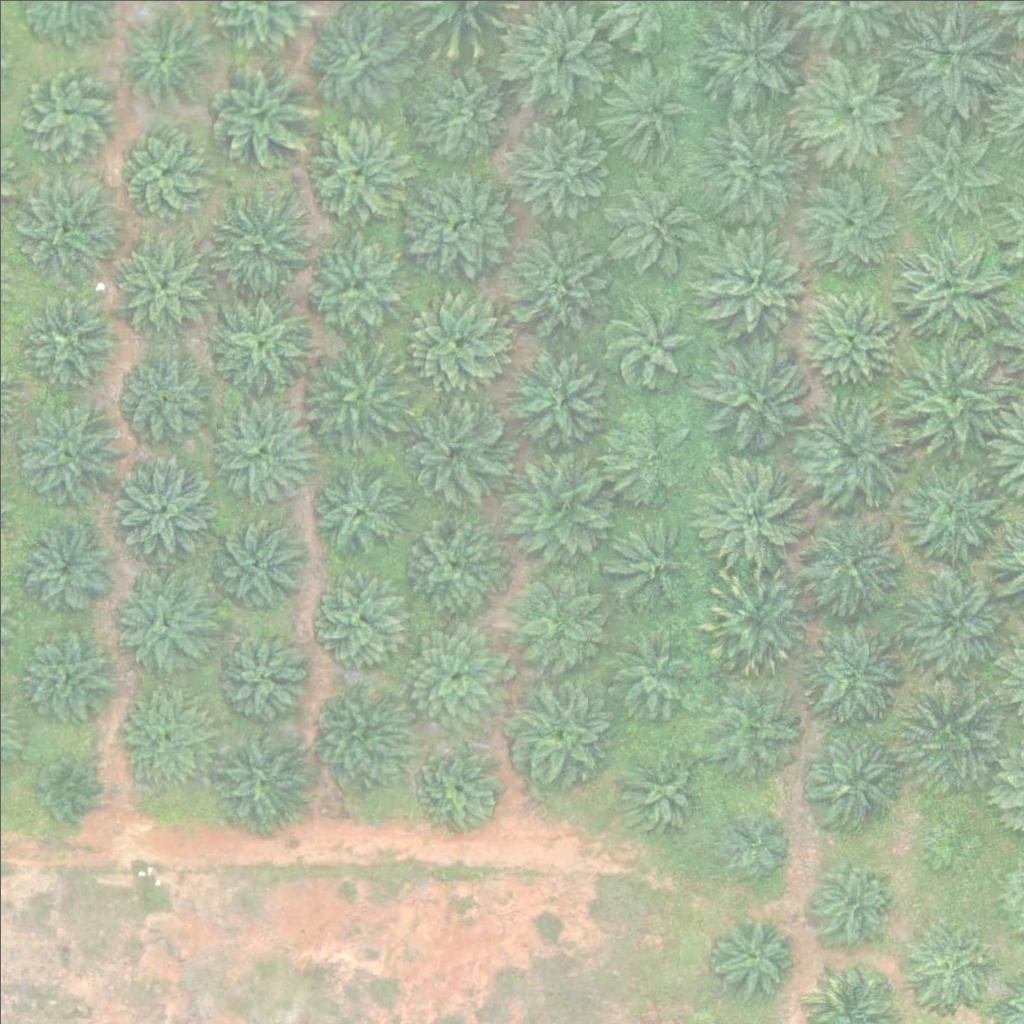Kelapa_Sawit: (397, 617, 510, 731), (393, 505, 506, 619), (296, 341, 409, 455), (204, 284, 317, 398), (196, 185, 309, 299), (895, 110, 1008, 224), (699, 562, 812, 675), (796, 721, 909, 834), (695, 458, 808, 571), (700, 341, 813, 454), (696, 219, 809, 332), (498, 111, 611, 224), (9, 395, 122, 508), (202, 54, 315, 167), (207, 391, 319, 505), (10, 169, 122, 283), (796, 613, 908, 726), (895, 684, 1007, 797), (897, 562, 1009, 675), (899, 455, 1011, 568), (900, 339, 1012, 452), (892, 225, 1004, 338), (797, 392, 909, 505), (793, 168, 905, 281), (694, 111, 806, 224), (496, 448, 608, 561), (498, 340, 610, 453), (394, 391, 506, 504), (395, 167, 507, 280), (203, 721, 315, 834), (103, 451, 215, 564), (404, 51, 516, 164), (795, 53, 907, 166), (704, 677, 804, 778), (893, 914, 993, 1015), (803, 512, 903, 613), (800, 289, 900, 390), (502, 228, 602, 329), (404, 292, 504, 393), (307, 678, 407, 779), (302, 235, 402, 336), (206, 619, 306, 720), (204, 513, 304, 614), (113, 681, 213, 782), (111, 575, 211, 676), (17, 623, 117, 724), (14, 515, 114, 616), (16, 291, 116, 392), (113, 7, 213, 108), (309, 120, 409, 221), (312, 8, 412, 109), (597, 62, 697, 163), (511, 679, 611, 779), (498, 569, 598, 669), (307, 570, 407, 670), (304, 459, 404, 559), (112, 348, 212, 448), (110, 231, 210, 331), (17, 62, 117, 162), (113, 121, 213, 221), (711, 908, 799, 996), (616, 746, 704, 834), (605, 516, 693, 604), (601, 626, 688, 714), (810, 856, 897, 944), (602, 412, 689, 500), (607, 298, 694, 386), (606, 182, 693, 270), (416, 743, 503, 831), (31, 758, 94, 821), (723, 813, 786, 876), (922, 810, 984, 873)
